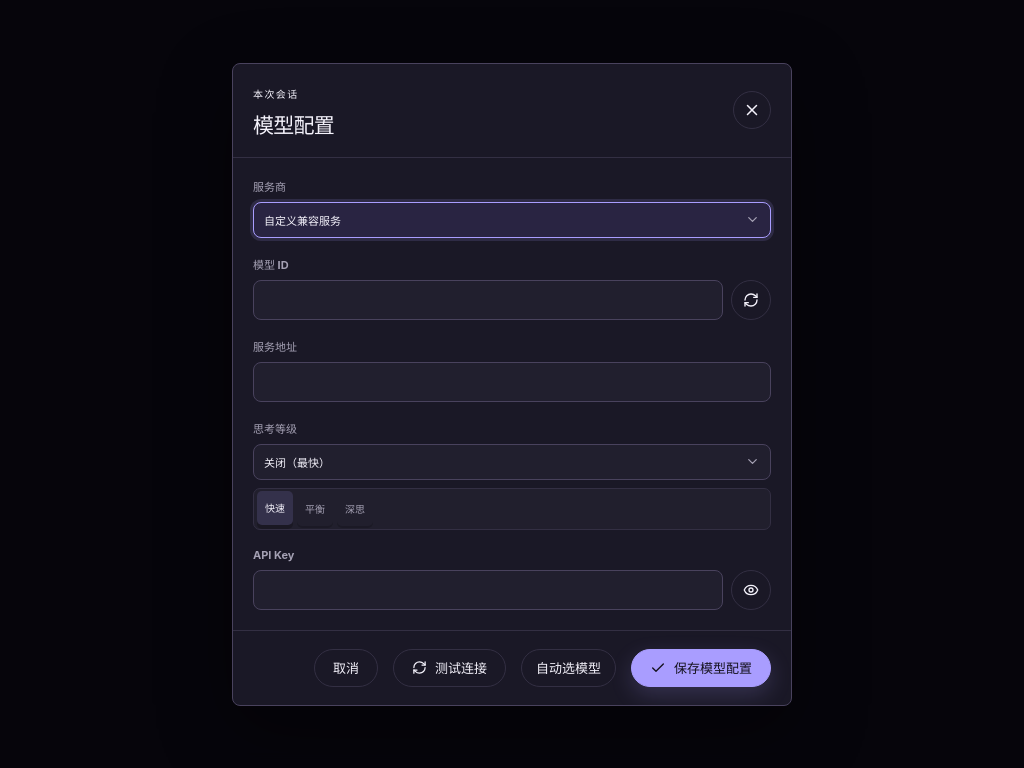
ProviderDialog › auto-selects a fetched model before testing an empty form
Type "https://models.example.test/v1" into the field labelled "服务地址" at (512,382), box [253,362,771,402]
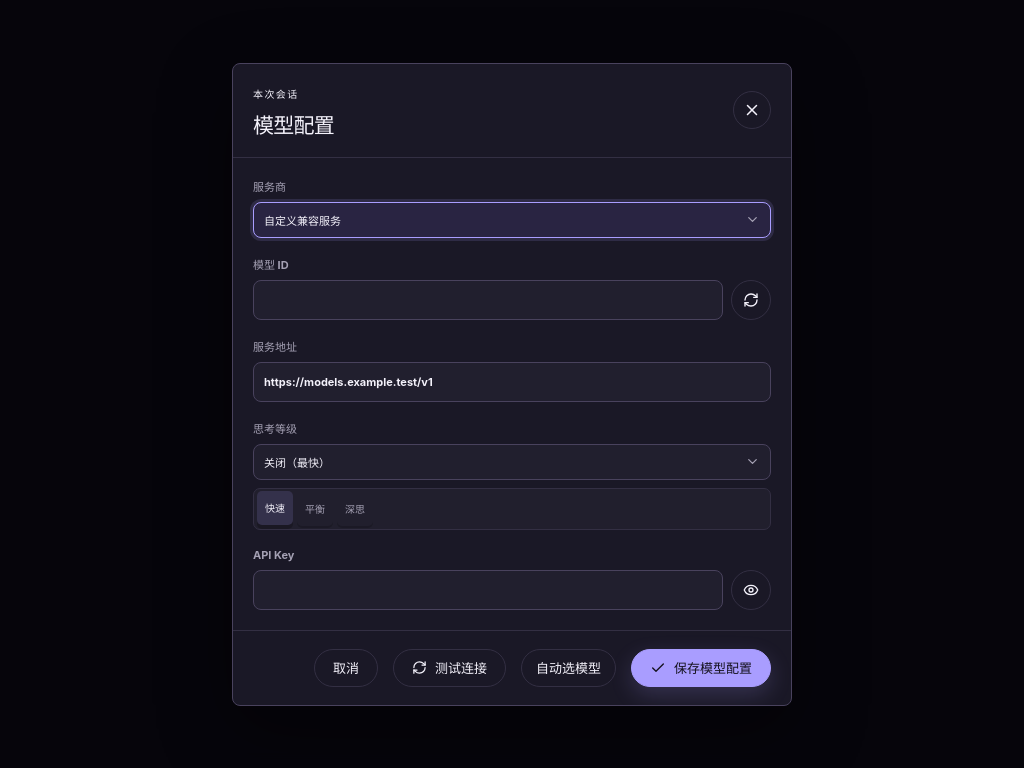
Click the button "测试连接" at (450,668), box [393,648,506,686]
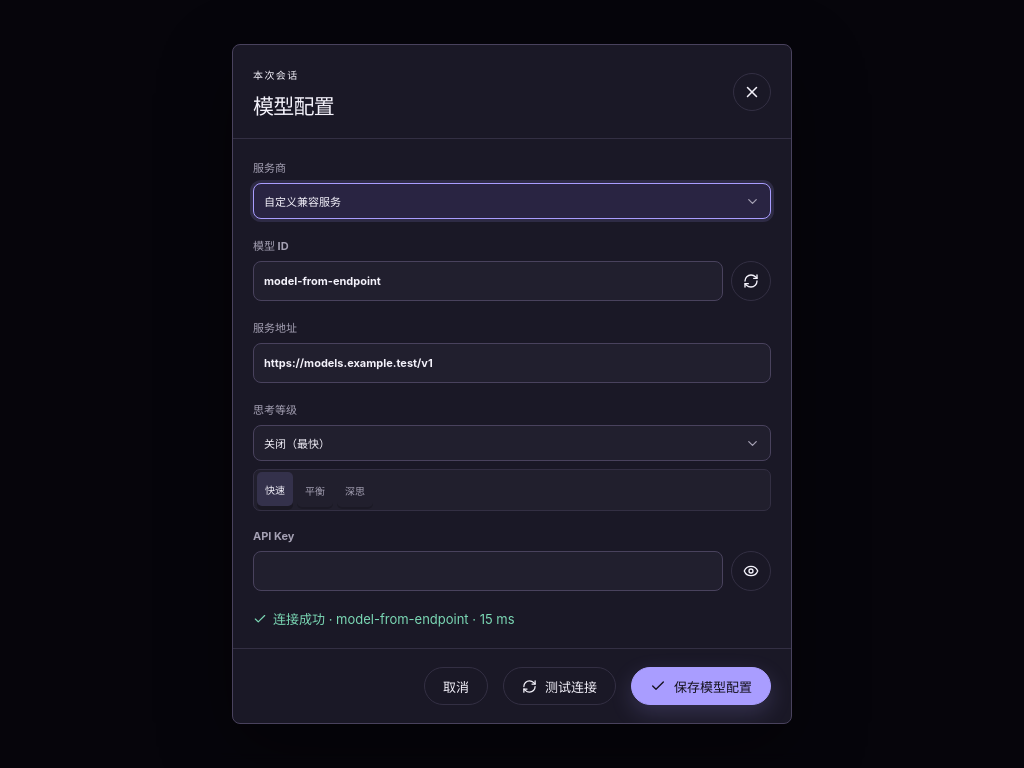
Check: the field labelled "模型 ID" holds "model-from-endpoint", box [253,261,723,301]
Check: the message shows "连接成功", box [273,611,515,627]
